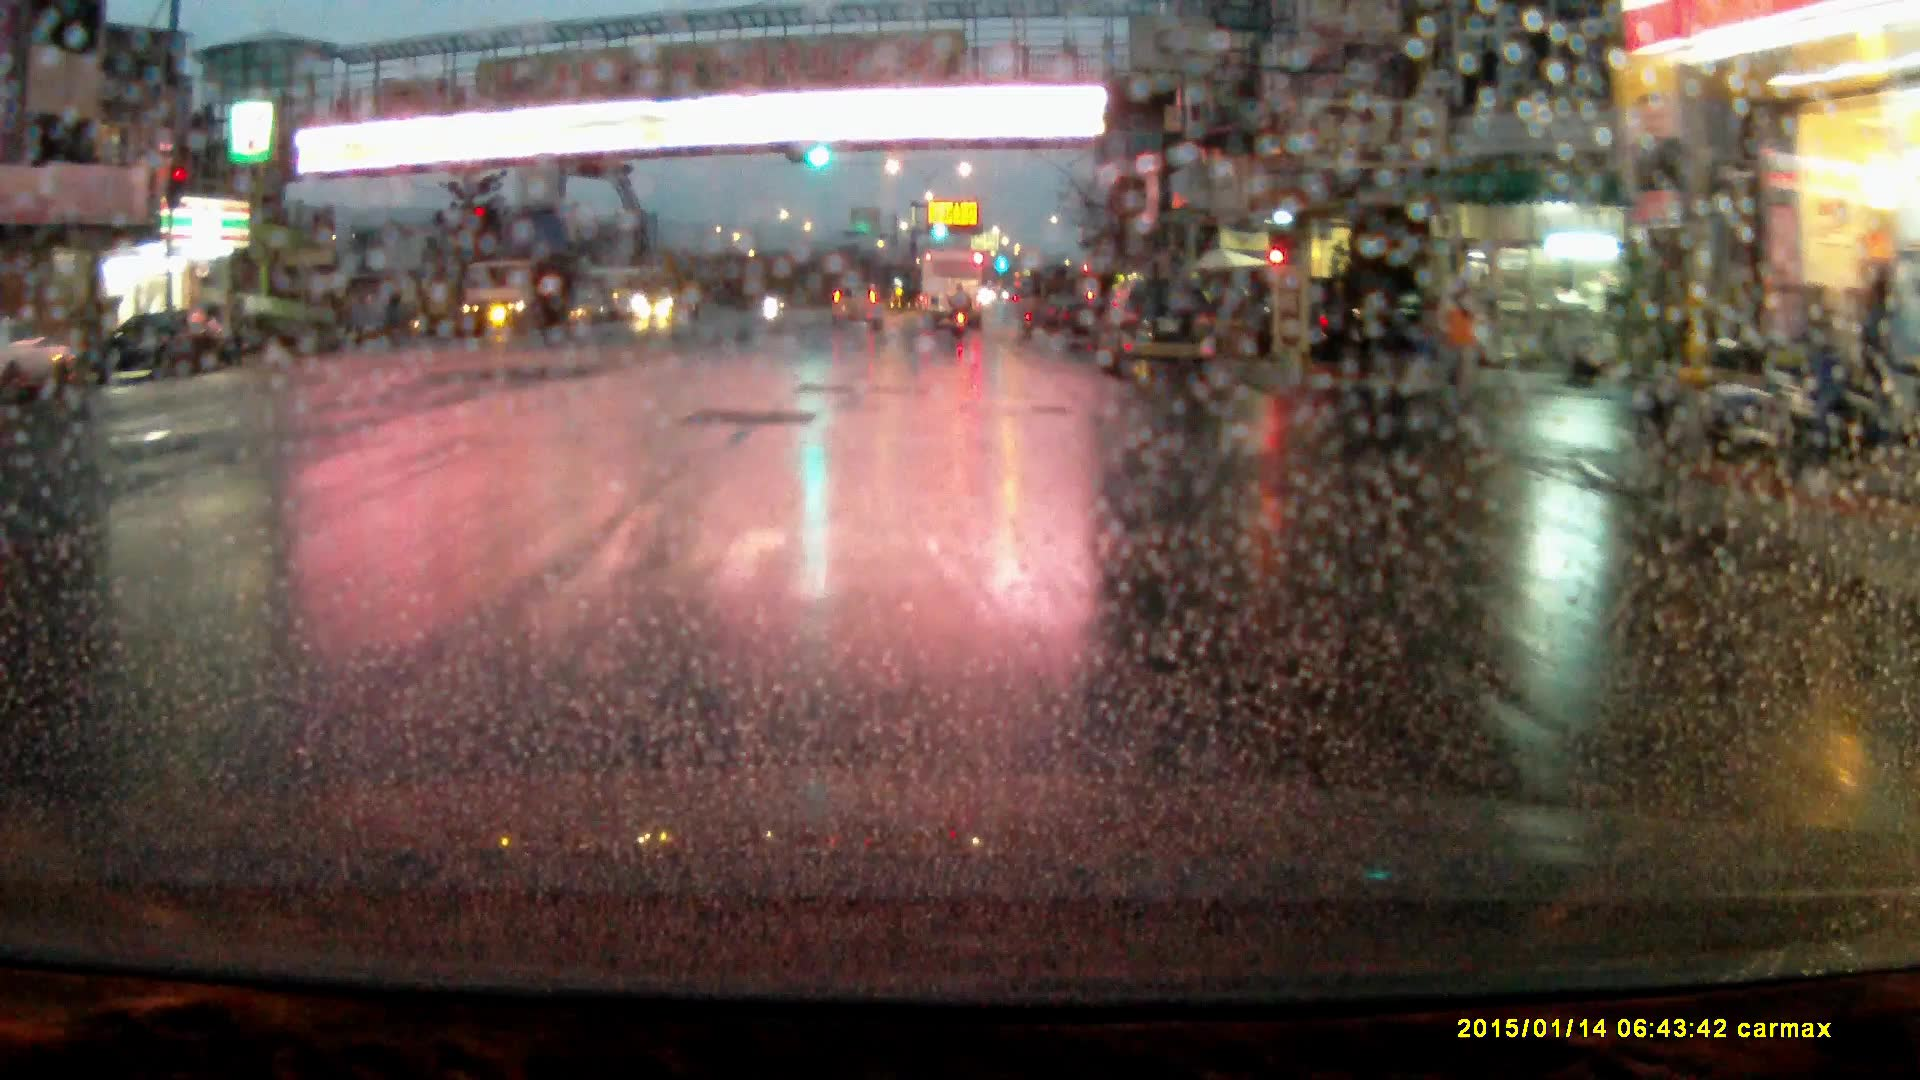pedestrian: (1428, 279, 1484, 420)
rider: (950, 284, 973, 341)
vehicle: (1094, 280, 1215, 389), (85, 318, 228, 392), (454, 263, 571, 341), (1313, 283, 1420, 368), (1, 327, 91, 408), (922, 256, 983, 335), (633, 279, 700, 329), (831, 290, 886, 338)
